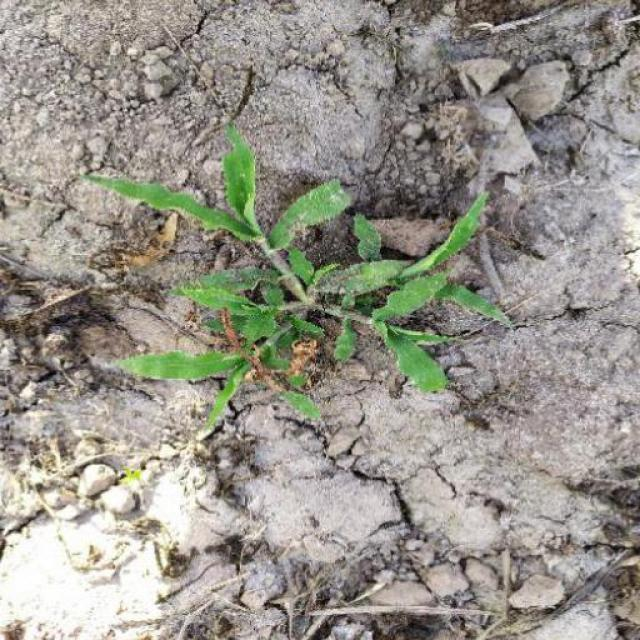weed: (80, 129, 505, 449)
